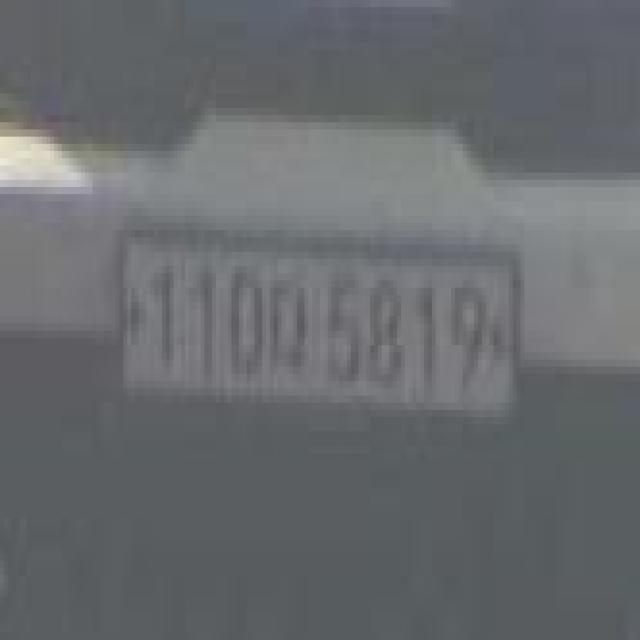illegal_plate: (117, 223, 526, 429)
